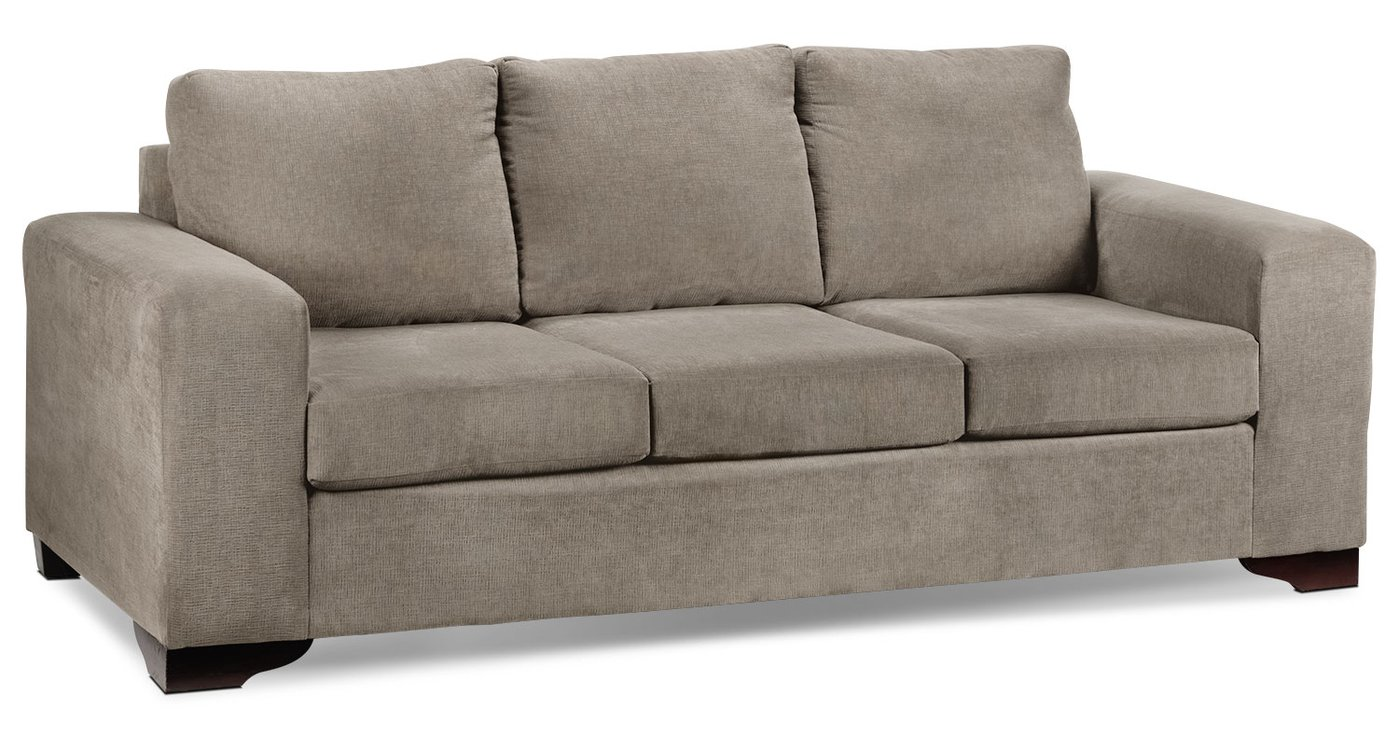sova: (17, 68, 1368, 623)
